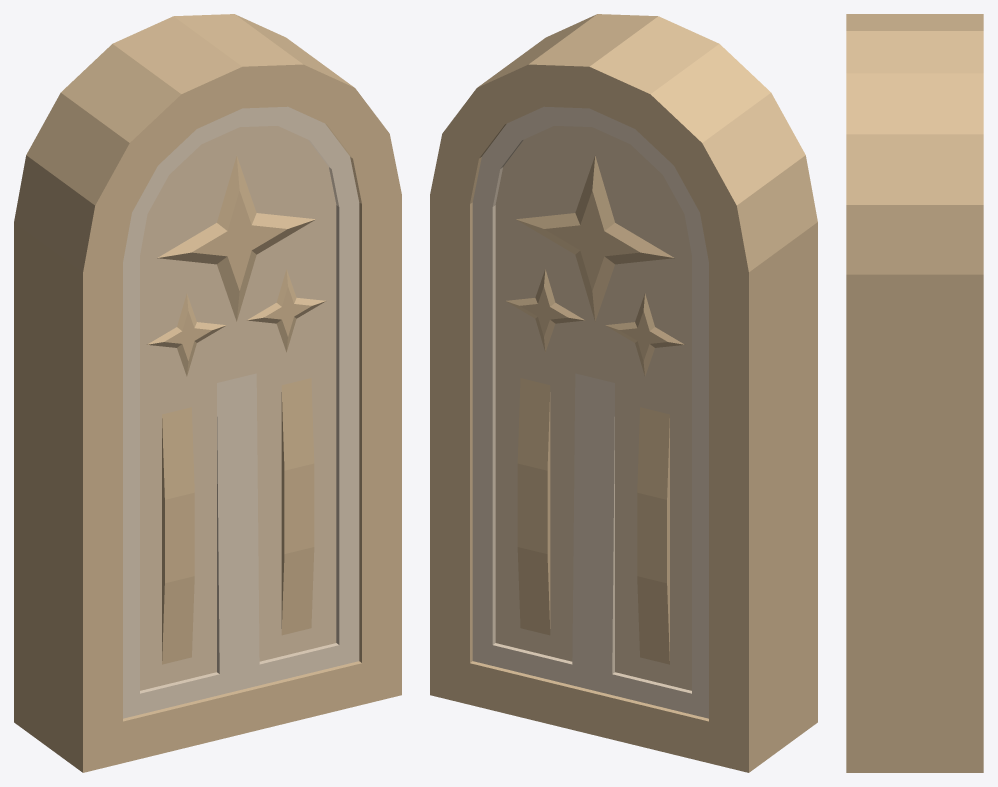
File: temple_Wall_Straight_Door_Stars.glb
3 views of the same model, side by side, from view 1: azimuth 30°, elevation 25°; view 2: azimuth 150°, elevation 25°; view 3: azimuth 270°, elevation 25° (orthographic).
Visible parts, largest first — view 1: object1; view 2: object1; view 3: object1.
Part boxes in pixels (<box>): object1: <box>14,14,401,772</box>; object1: <box>430,14,817,772</box>; object1: <box>846,14,983,772</box>.
Bounding box in the file's own units: 0.8 × 1.6 × 0.3.
